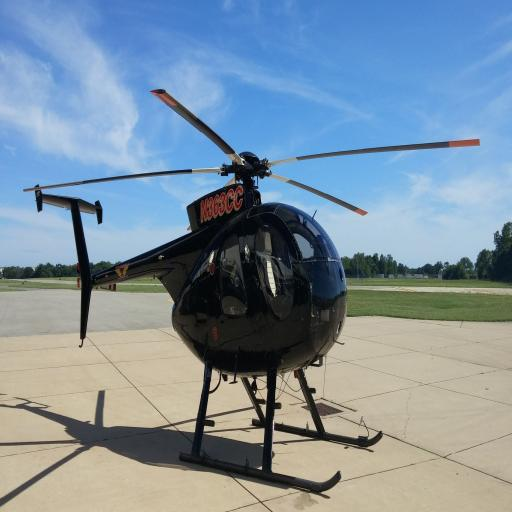helicopter: (24, 91, 483, 495)
